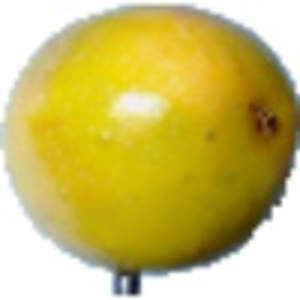maracujá: (1, 2, 300, 299)
